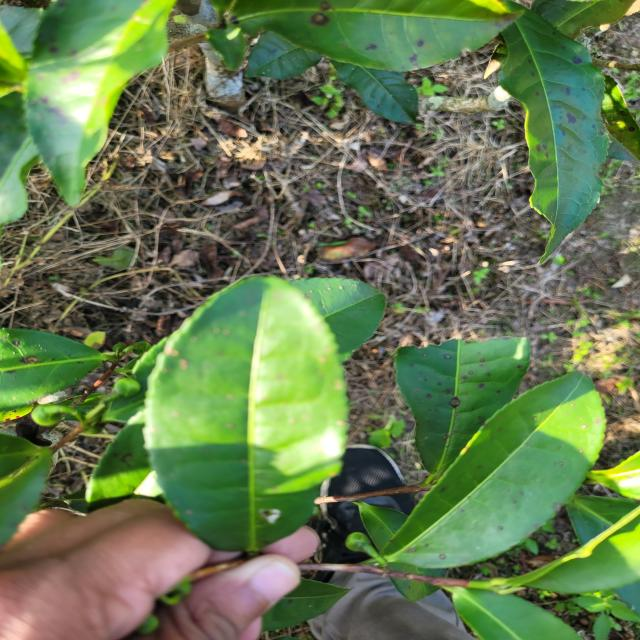Category D(7+ days, Not for Tea): (125, 262, 367, 567)
